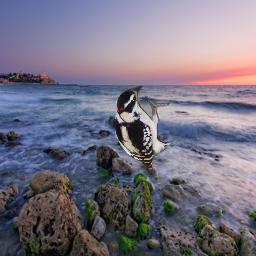Woodpecker: (115, 86, 173, 175)
